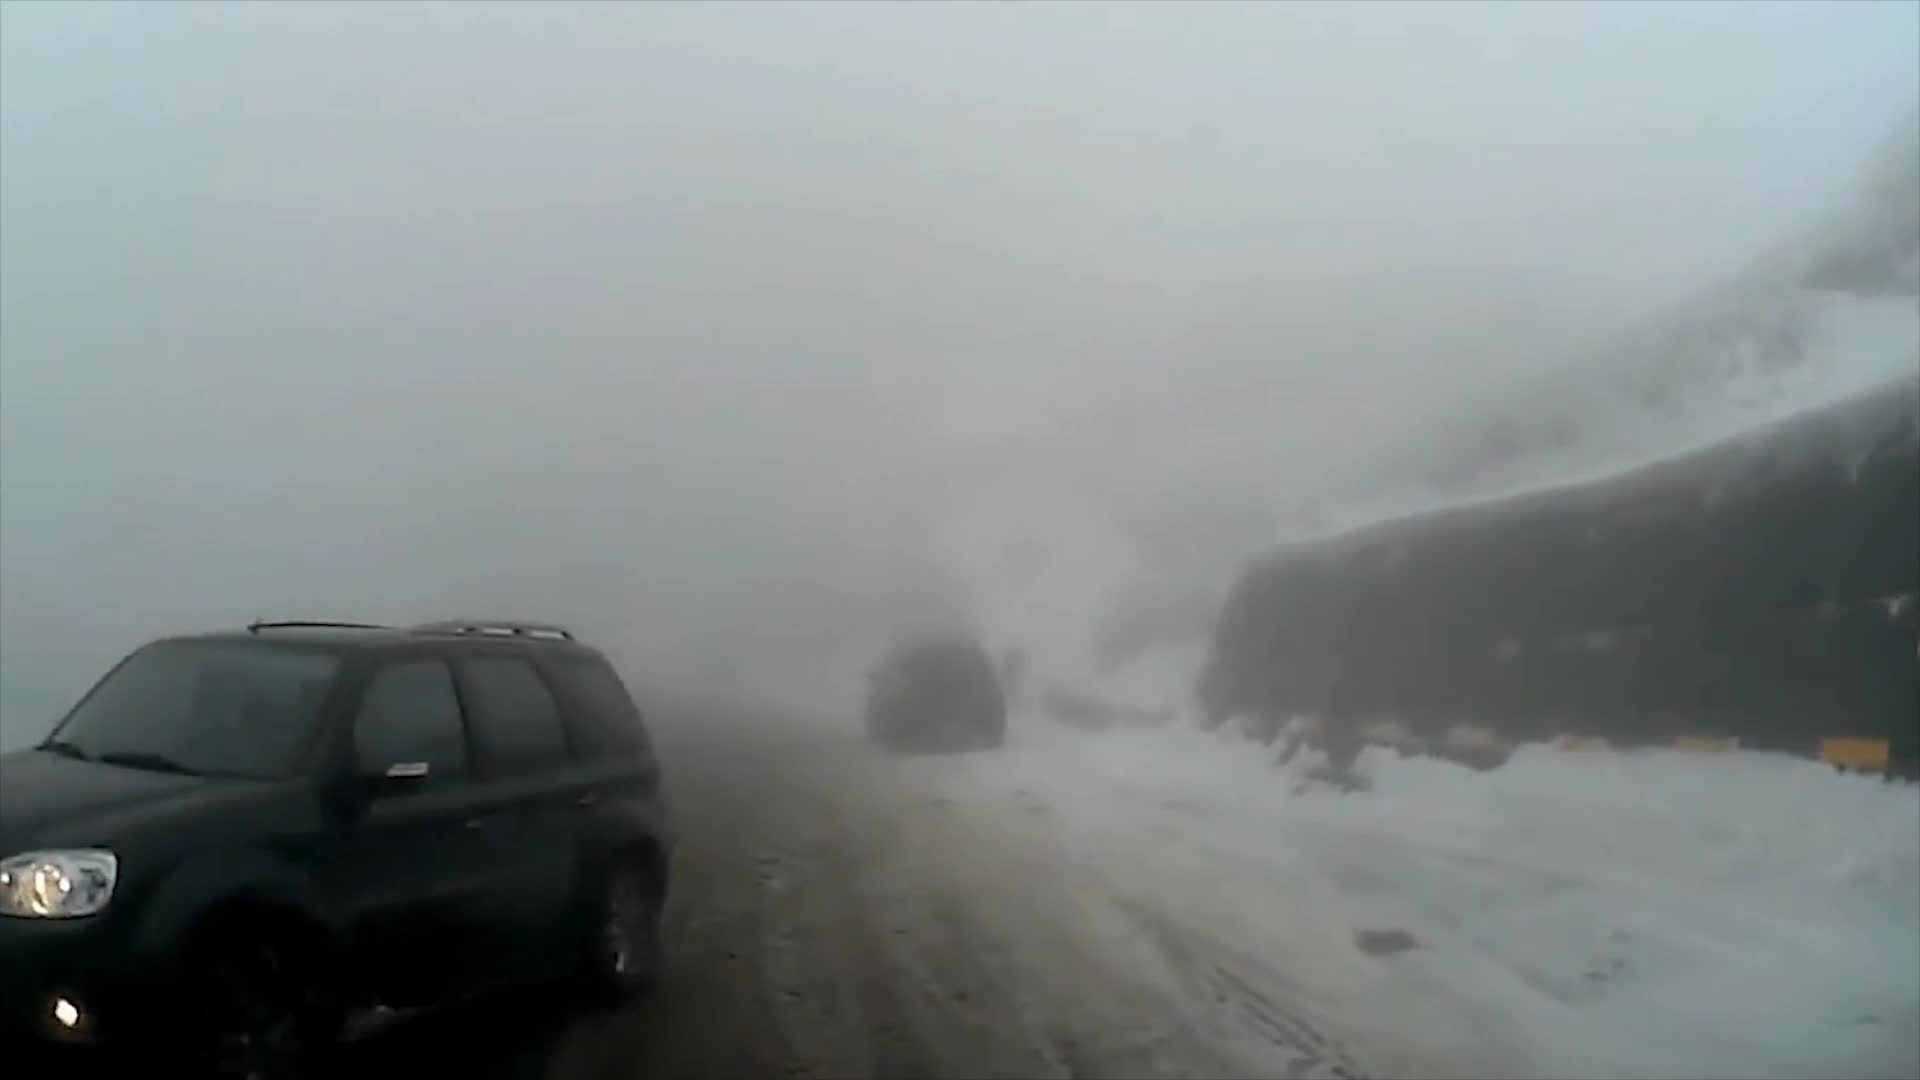vehicle: (0, 615, 673, 1077), (858, 632, 1004, 756)
